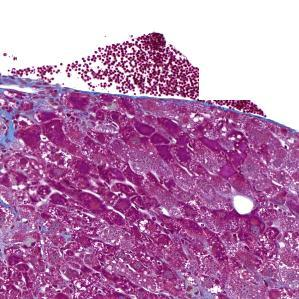fibrosis: (0, 100, 25, 153)
